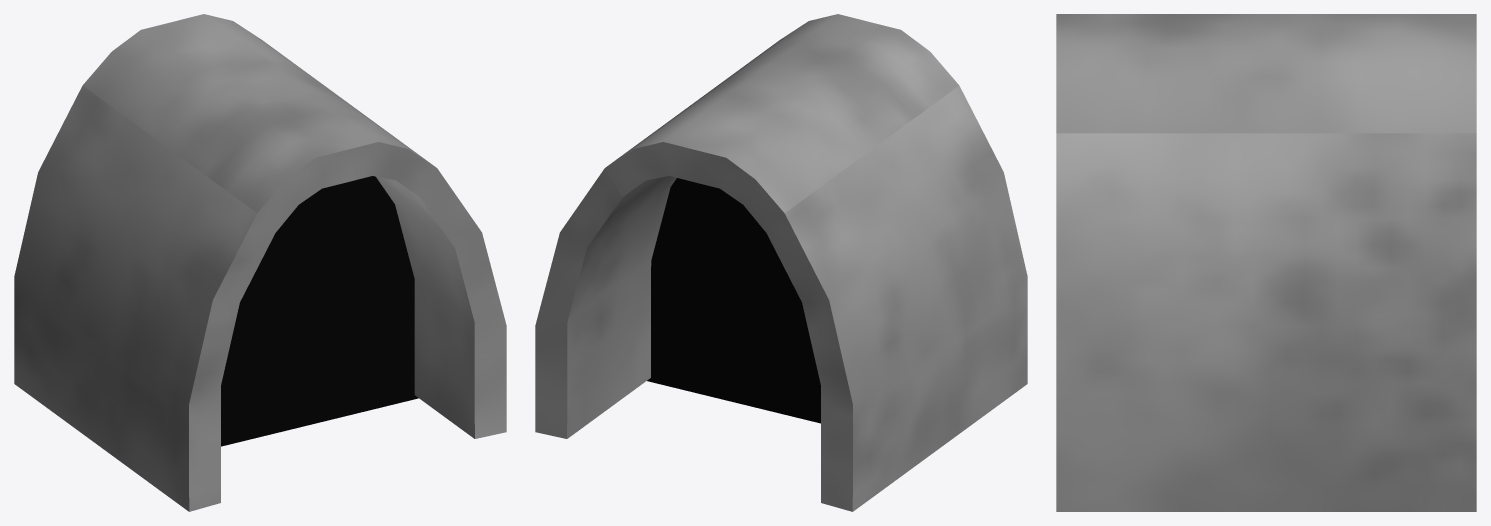
File: Tunel.fbx
3 views of the same model, side by side, from view 1: azimuth 30°, elevation 25°; view 2: azimuth 150°, elevation 25°; view 3: azimuth 270°, elevation 25° (orthographic). The views are drawn at different scales.
Visible parts, largest first — view 1: Tunel; view 2: Tunel; view 3: Tunel.
Part boxes in pixels (x1,y1,x2,y2): Tunel: (14, 14, 506, 511); Tunel: (535, 14, 1027, 511); Tunel: (1056, 14, 1476, 511).
Size of the model in its own units: 703 by 686 by 669.
